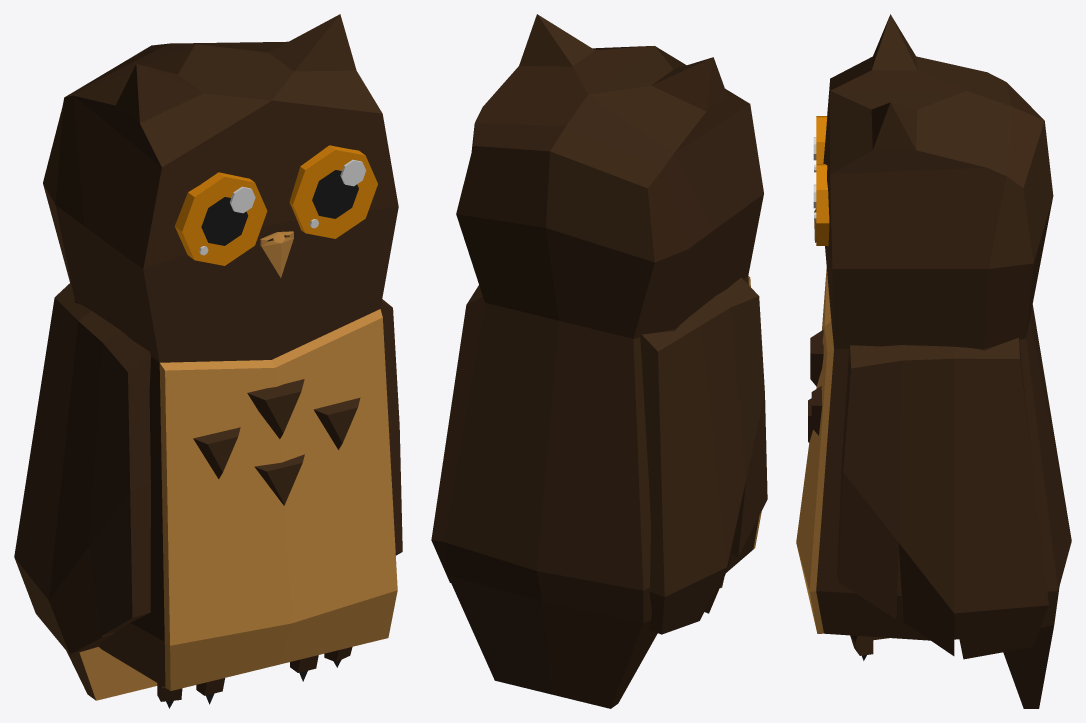
File: Owl_01.fbx
3 renders of one model, left to right at view 1: azimuth 30°, elevation 25°; view 2: azimuth 150°, elevation 25°; view 3: azimuth 270°, elevation 25°, orthographic. The views are drawn at different scales.
Visible parts, largest first — view 1: Owl_01; view 2: Owl_01; view 3: Owl_01.
Boxes of the visible parts, <box> form: Owl_01: <box>14,14,402,708</box>; Owl_01: <box>431,14,767,708</box>; Owl_01: <box>796,14,1071,708</box>.
Bounding box in the file's own units: 4.51 × 9.83 × 3.95.
